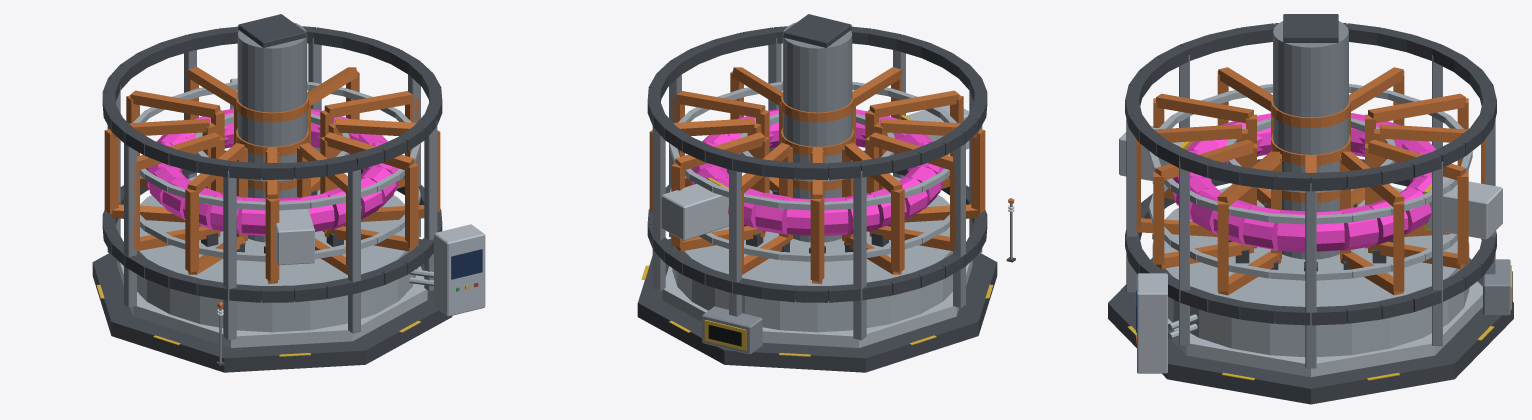
File: reacteur_fusion.glb
3 views of the same model, side by side, from view 1: azimuth 30°, elevation 25°; view 2: azimuth 150°, elevation 25°; view 3: azimuth 270°, elevation 25° (orthographic). The views are drawn at different scales.
Visible parts, largest first — view 1: pieces_cuivre.006, pieces_acier_sombre.007, cryostat.002, socle.002, pieces_acier.007, solenoide.002, voyant_plasma_plasma.002, pieces_inox.002, pieces_gris_clair.007, socle_haut.002, pieces_panneau.005; view 2: pieces_cuivre.006, pieces_acier_sombre.007, cryostat.002, pieces_acier.007, socle.002, solenoide.002, voyant_plasma_plasma.002, pieces_inox.002, socle_haut.002, pieces_gris_clair.007, pieces_jaune.007, pieces_noir.007; view 3: pieces_cuivre.006, pieces_acier_sombre.007, cryostat.002, socle.002, pieces_acier.007, voyant_plasma_plasma.002, solenoide.002, pieces_inox.002, pieces_gris_clair.007, socle_haut.002, pieces_jaune.007.
Boxes of the visible parts, <box> form: pieces_cuivre.006: <box>104,67,440,307</box>; pieces_acier_sombre.007: <box>102,14,442,366</box>; cryostat.002: <box>137,176,417,332</box>; socle.002: <box>92,238,452,372</box>; pieces_acier.007: <box>107,38,437,363</box>; solenoide.002: <box>237,22,307,242</box>; voyant_plasma_plasma.002: <box>145,108,399,235</box>; pieces_inox.002: <box>133,81,433,286</box>; pieces_gris_clair.007: <box>230,78,485,316</box>; socle_haut.002: <box>117,260,427,347</box>; pieces_panneau.005: <box>451,249,482,279</box>; pieces_cuivre.006: <box>649,67,1014,284</box>; pieces_acier_sombre.007: <box>647,14,1015,302</box>; cryostat.002: <box>672,176,952,332</box>; pieces_acier.007: <box>652,38,1012,354</box>; socle.002: <box>637,238,997,372</box>; solenoide.002: <box>782,22,852,242</box>; voyant_plasma_plasma.002: <box>690,109,943,235</box>; pieces_inox.002: <box>669,81,956,261</box>; socle_haut.002: <box>662,260,972,347</box>; pieces_gris_clair.007: <box>661,105,969,240</box>; pieces_jaune.007: <box>641,115,993,356</box>; pieces_noir.007: <box>708,325,741,346</box>; pieces_cuivre.006: <box>1135,67,1486,295</box>; pieces_acier_sombre.007: <box>1125,14,1496,325</box>; cryostat.002: <box>1152,187,1469,357</box>; socle.002: <box>1108,258,1513,404</box>; pieces_acier.007: <box>1126,55,1510,368</box>; voyant_plasma_plasma.002: <box>1172,113,1446,252</box>; solenoide.002: <box>1273,21,1348,259</box>; pieces_inox.002: <box>1149,84,1472,339</box>; pieces_gris_clair.007: <box>1119,125,1502,373</box>; socle_haut.002: <box>1135,281,1482,377</box>; pieces_jaune.007: <box>1127,141,1511,380</box>.
Bounding box in the file's own units: 3 × 2.35 × 3.
